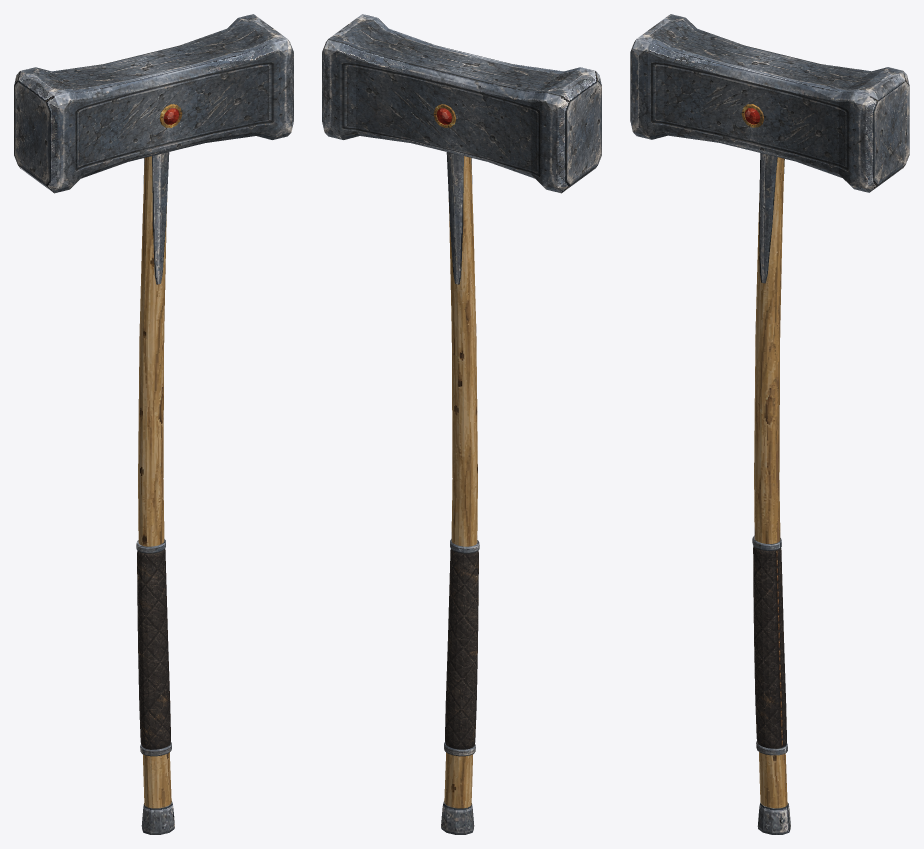
The model's file is war-hammer.glb.
3 views of the same model, side by side, from view 1: azimuth 30°, elevation 25°; view 2: azimuth 150°, elevation 25°; view 3: azimuth 330°, elevation 25° (orthographic).
Parts seen in each view (by area): view 1: Flared_Chamfered_Double_Face_Hammer_Head, Swayed_Oval_Ash_Haft, Long_Charcoal_Diamond_Pressed_Leather_Grip, Two_Tapered_Conforming_Steel_Langets, Flat_Flared_Steel_Butt_Cap; view 2: Flared_Chamfered_Double_Face_Hammer_Head, Swayed_Oval_Ash_Haft, Long_Charcoal_Diamond_Pressed_Leather_Grip, Two_Tapered_Conforming_Steel_Langets, Flat_Flared_Steel_Butt_Cap; view 3: Flared_Chamfered_Double_Face_Hammer_Head, Swayed_Oval_Ash_Haft, Long_Charcoal_Diamond_Pressed_Leather_Grip, Two_Tapered_Conforming_Steel_Langets, Flat_Flared_Steel_Butt_Cap.
Boxes of the visible parts, left/top/right/bottom form: Flared_Chamfered_Double_Face_Hammer_Head: left=14, top=14, right=293, bottom=193; Swayed_Oval_Ash_Haft: left=138, top=156, right=171, bottom=808; Long_Charcoal_Diamond_Pressed_Leather_Grip: left=137, top=549, right=170, bottom=749; Two_Tapered_Conforming_Steel_Langets: left=143, top=152, right=169, bottom=284; Flat_Flared_Steel_Butt_Cap: left=141, top=801, right=174, bottom=834; Flared_Chamfered_Double_Face_Hammer_Head: left=322, top=14, right=601, bottom=193; Swayed_Oval_Ash_Haft: left=444, top=156, right=477, bottom=808; Long_Charcoal_Diamond_Pressed_Leather_Grip: left=445, top=549, right=478, bottom=749; Two_Tapered_Conforming_Steel_Langets: left=446, top=152, right=472, bottom=284; Flat_Flared_Steel_Butt_Cap: left=441, top=801, right=474, bottom=834; Flared_Chamfered_Double_Face_Hammer_Head: left=630, top=14, right=909, bottom=192; Swayed_Oval_Ash_Haft: left=754, top=157, right=787, bottom=808; Long_Charcoal_Diamond_Pressed_Leather_Grip: left=753, top=546, right=786, bottom=748; Two_Tapered_Conforming_Steel_Langets: left=759, top=153, right=784, bottom=283; Flat_Flared_Steel_Butt_Cap: left=757, top=802, right=790, bottom=834.
Bounding box in the file's own units: 0.446 × 1.35 × 0.132.
Materials: 1 (1 with a texture image).
